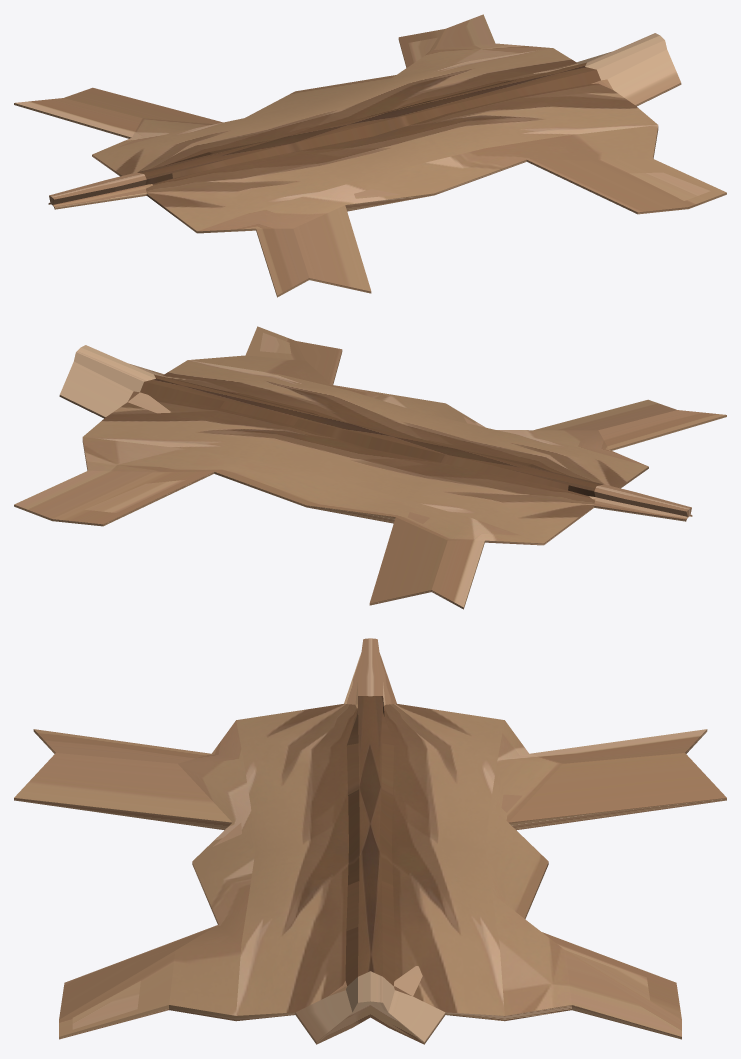
File: dathu.fbx
3 renders of one model, top to bottom at view 1: azimuth 30°, elevation 25°; view 2: azimuth 150°, elevation 25°; view 3: azimuth 270°, elevation 25°, orthographic. The views are drawn at different scales.
Visible parts, largest first — view 1: pCube1; view 2: pCube1; view 3: pCube1.
Boxes of the visible parts, x1,y1,x2,y2 form: pCube1: (14,14,726,297); pCube1: (14,326,726,609); pCube1: (14,638,726,1044).
Size of the model in its own units: 8.13 by 0.7887 by 6.45.
1 material, 1 textured.
